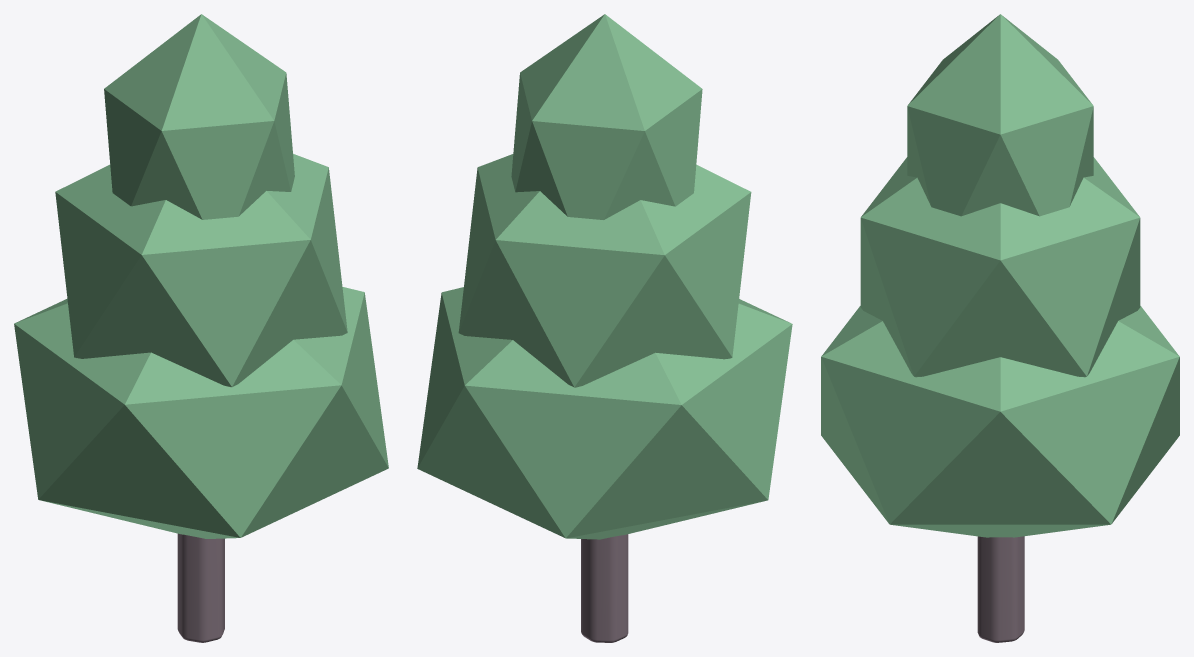
The model's file is tree.glb.
The picture shows the model from 3 angles, left to right: view 1: azimuth 30°, elevation 25°; view 2: azimuth 150°, elevation 25°; view 3: azimuth 270°, elevation 25°; orthographic projection.
Parts seen in each view (by area): view 1: Foliage, Trunk; view 2: Foliage, Trunk; view 3: Foliage, Trunk.
Part boxes in pixels (bbox=[...]): Foliage: bbox=[14, 14, 388, 538]; Trunk: bbox=[177, 533, 224, 642]; Foliage: bbox=[417, 14, 792, 539]; Trunk: bbox=[581, 534, 628, 642]; Foliage: bbox=[821, 14, 1179, 537]; Trunk: bbox=[977, 536, 1024, 642].
Bounding box in the file's own units: 1.79 × 3.25 × 1.7.
